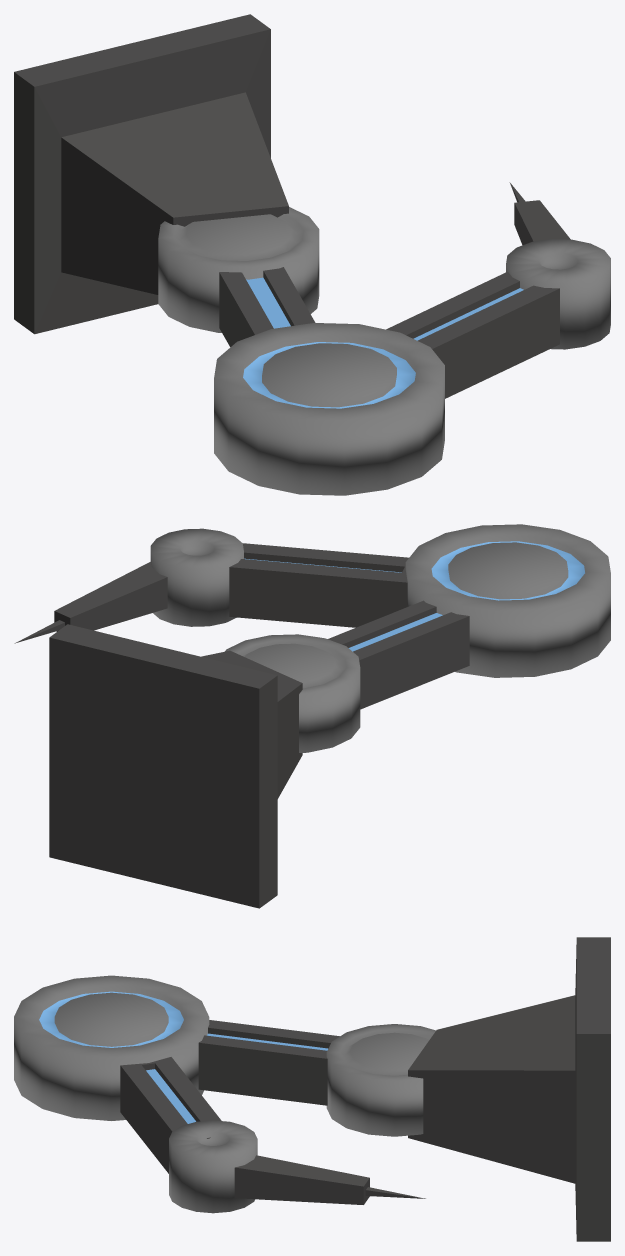
The model's file is mecha_ramie.gltf.
3 renders of one model, top to bottom at view 1: azimuth 30°, elevation 25°; view 2: azimuth 150°, elevation 25°; view 3: azimuth 270°, elevation 25°, orthographic. The views are drawn at different scales.
Visible parts, largest first — view 1: Cube, Cylinder.001, Cylinder, Cube.002, Cylinder.002, Cube.001, Cube.003; view 2: Cube, Cylinder.001, Cube.002, Cube.001, Cylinder, Cylinder.002, Cube.003; view 3: Cube, Cylinder.001, Cylinder, Cube.001, Cylinder.002, Cube.002, Cube.003.
Boxes of the visible parts, bbox=[...] form: Cube: bbox=[14, 14, 288, 334]; Cylinder.001: bbox=[214, 323, 444, 495]; Cylinder: bbox=[158, 207, 319, 332]; Cube.002: bbox=[386, 271, 559, 398]; Cylinder.002: bbox=[506, 239, 610, 349]; Cube.001: bbox=[219, 267, 315, 346]; Cube.003: bbox=[509, 182, 570, 245]; Cube: bbox=[49, 624, 302, 908]; Cylinder.001: bbox=[405, 524, 610, 677]; Cube.002: bbox=[229, 543, 408, 627]; Cube.001: bbox=[328, 600, 469, 709]; Cylinder: bbox=[225, 634, 360, 752]; Cylinder.002: bbox=[150, 528, 243, 626]; Cube.003: bbox=[14, 561, 167, 643]; Cube: bbox=[408, 937, 610, 1241]; Cylinder.001: bbox=[14, 975, 209, 1120]; Cylinder: bbox=[326, 1024, 435, 1136]; Cube.001: bbox=[198, 1020, 339, 1105]; Cylinder.002: bbox=[169, 1120, 257, 1213]; Cube.002: bbox=[120, 1057, 221, 1173]; Cube.003: bbox=[234, 1155, 425, 1204].
Bounding box in the file's own units: 3.97 × 2 × 5.22.
